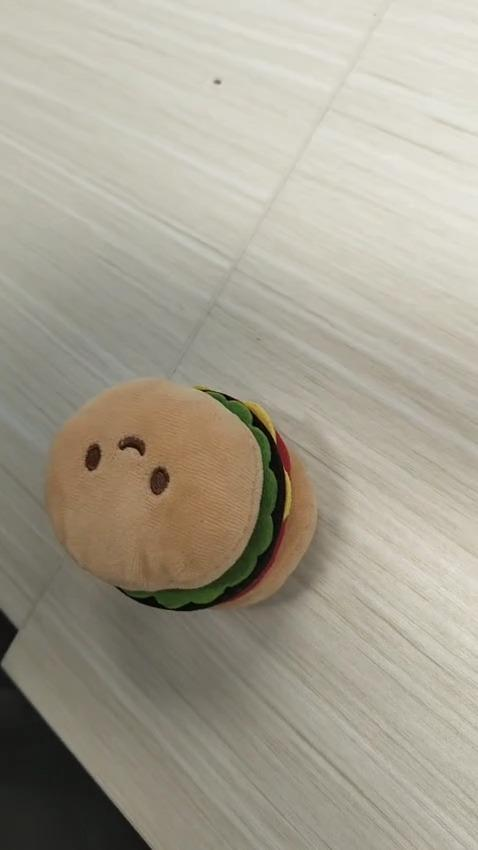hamburger: (43, 376, 318, 613)
